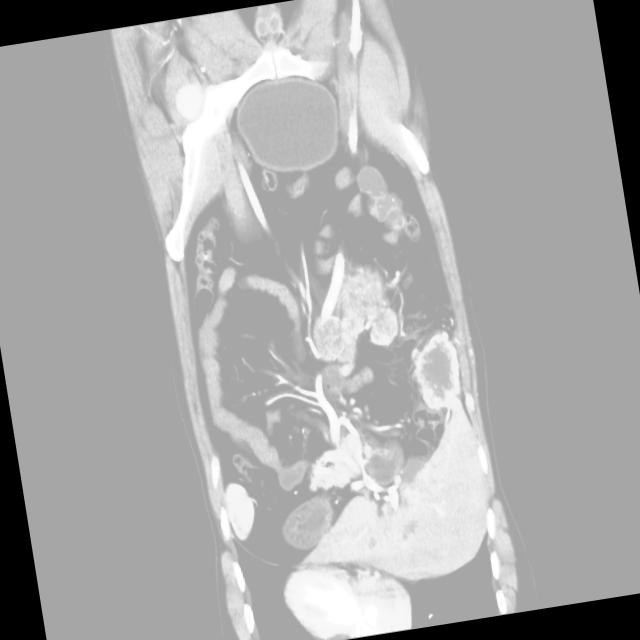TUMOR: (136, 114, 563, 498)
